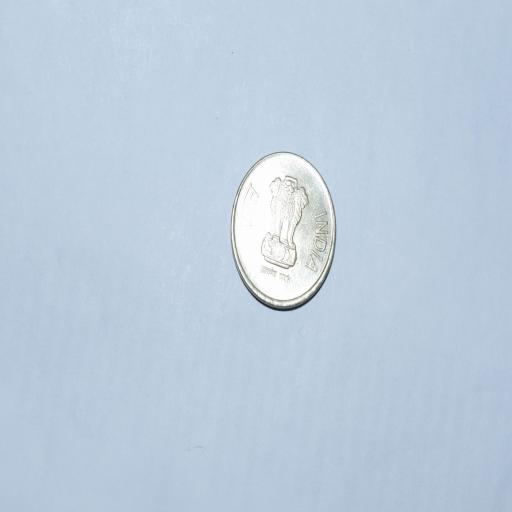rupee5: (229, 150, 336, 309)
